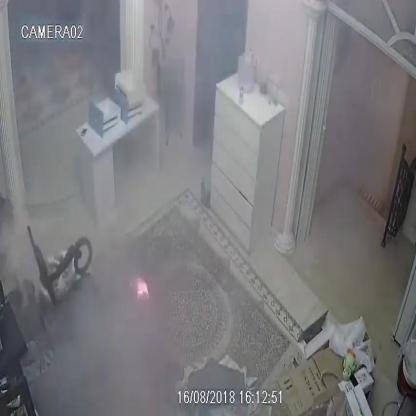fire: (137, 280, 149, 298)
